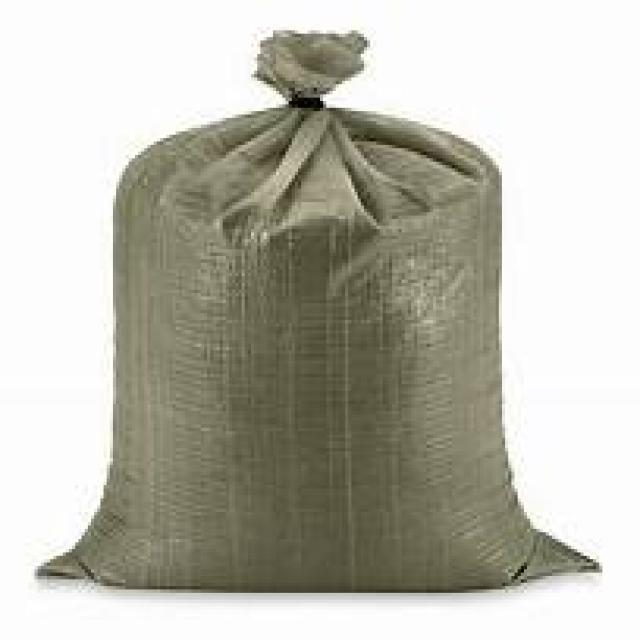gunny_bag: (21, 27, 617, 600)
